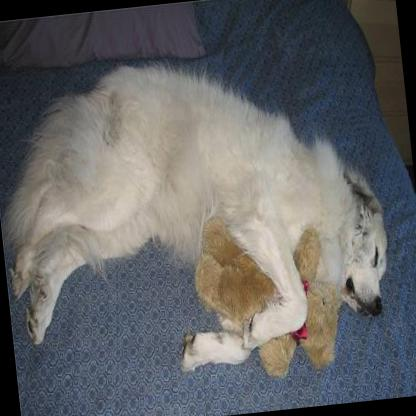Great_Pyrenees: (0, 36, 398, 391)
